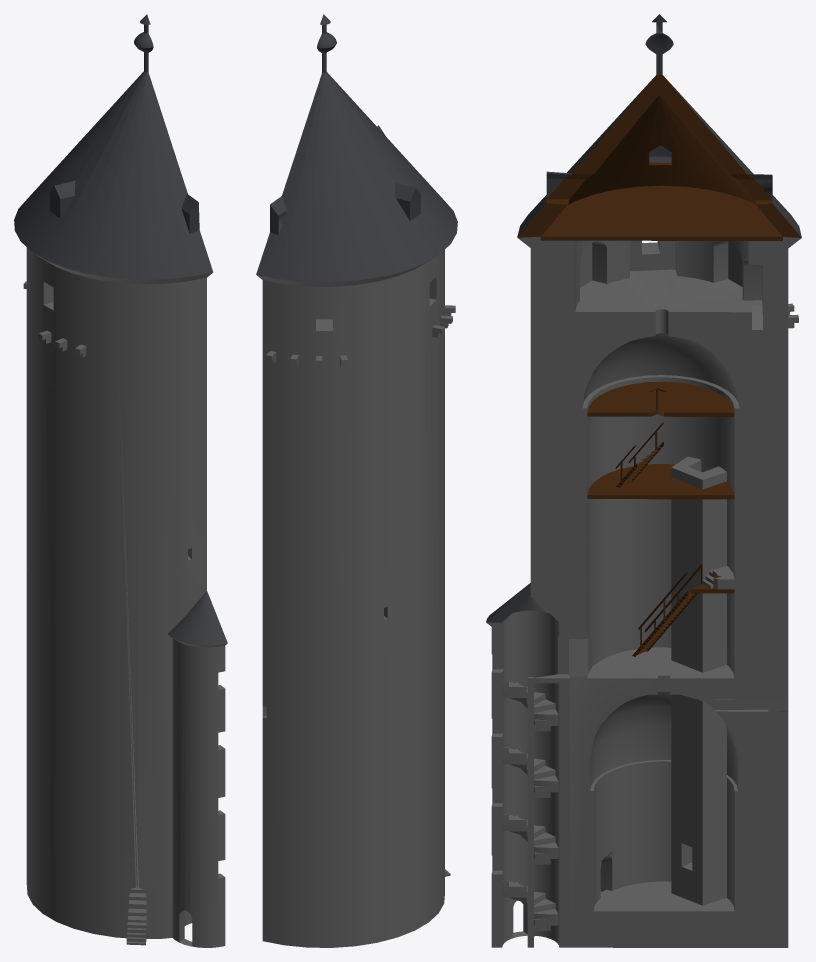
File: Turm_Schnitt.fbx
3 renders of one model, left to right at view 1: azimuth 30°, elevation 25°; view 2: azimuth 150°, elevation 25°; view 3: azimuth 270°, elevation 25°, orthographic. The views are drawn at different scales.
Visible parts, largest first — view 1: Turm.Schnitt.003; view 2: Turm.Schnitt.003; view 3: Turm.Schnitt.003.
Boxes of the visible parts, x1,y1,x2,y2 form: Turm.Schnitt.003: (14,14,227,947); Turm.Schnitt.003: (256,14,457,947); Turm.Schnitt.003: (486,14,801,947).
Size of the model in its own units: 629 by 4538 by 1391.
